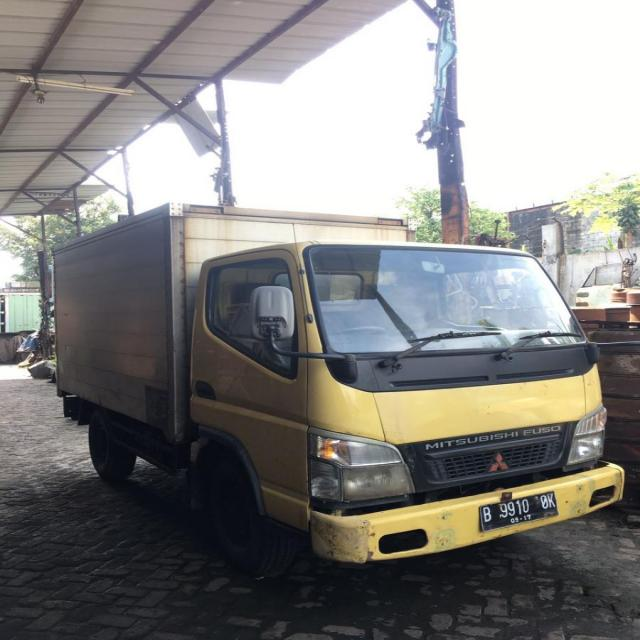Truck: (51, 201, 639, 566)
